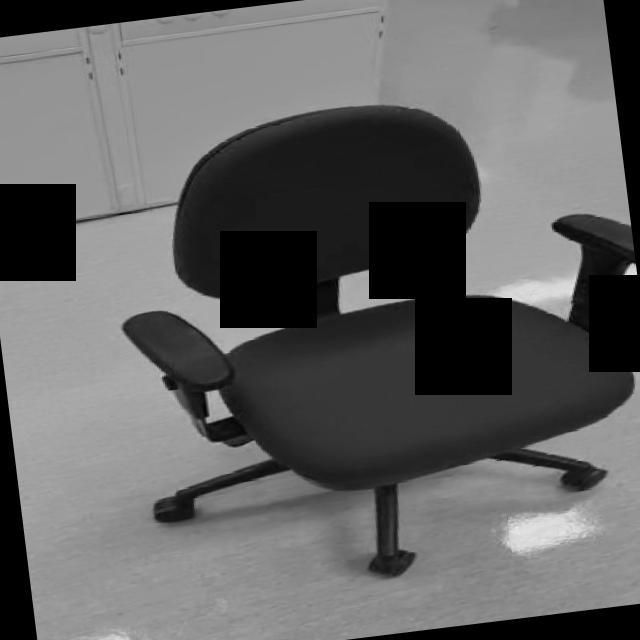chair: (96, 72, 640, 604)
